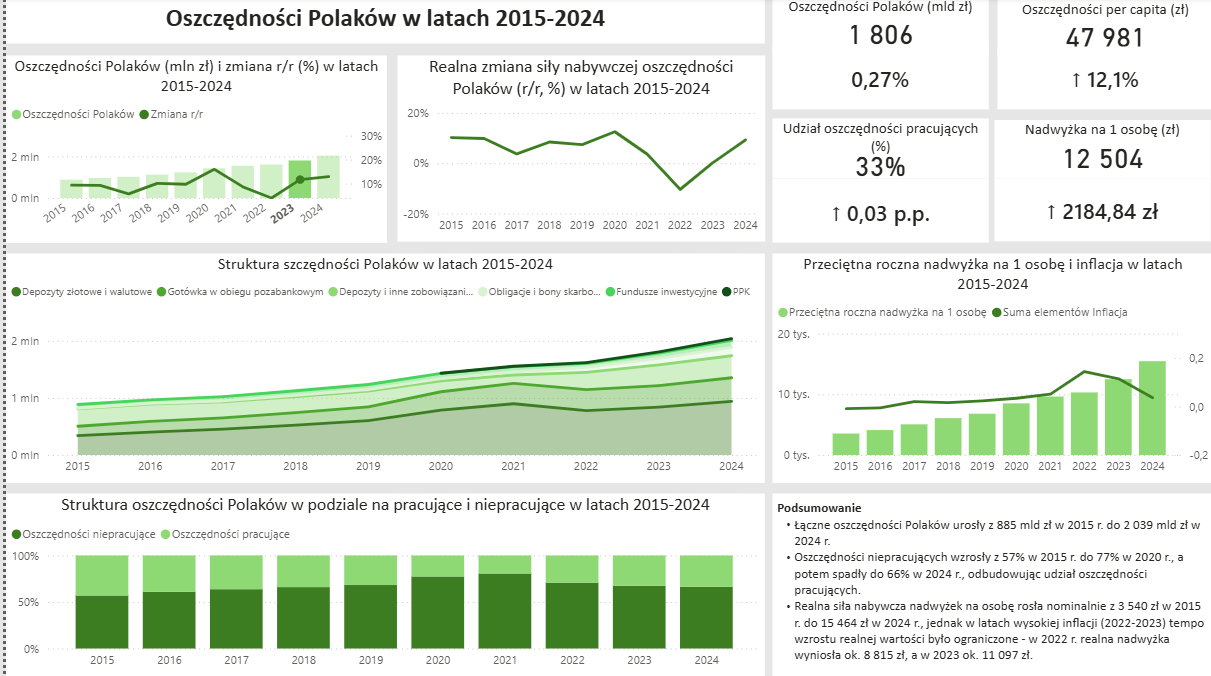

This screenshot's page, from the dashboard's own definition file:
{"tool":"powerbi","page":{"name":"Strona 1","canvas":[1280,720],"ordinal":0},"visuals":[{"type":"stackedAreaChart","title":"Struktura szczędności Polaków w latach 2015-2024","fields":{"Category":["Razem.Rok"],"Y":["Sum(Razem.ROR)","Sum(Razem.Gotówka)","Sum(Razem.Depozyty i inne zobowiązania do 2 lat włącznie)","Sum(Razem.Obligacje i bony skarbowe)","Sum(Razem.Fundusze inwestycyjne)","Sum(Razem.PPK)"]},"box":[0,272,804.8,243.4],"z":0},{"type":"textbox","box":[0,0,804.8,49.3],"z":1000},{"type":"lineClusteredColumnComboChart","title":"Oszczędności Polaków (mln zł) i zmiana r/r (%) w latach 2015-2024","fields":{"Y2":["Sum(Razem.YoY razem)"],"Y":["Sum(Razem.RAZEM)"],"Category":["Razem.Rok"]},"box":[0,62,404,198.8],"z":2000},{"type":"kpi","title":"Oszczędności Polaków (mld zł)","fields":{"Indicator":["Razem.Suma oszczędności (mld zł)"],"TrendLine":["Razem.Rok"]},"box":[812.8,0,229,60.4],"z":3000},{"type":"lineChart","title":"Realna zmiana siły nabywczej oszczędności Polaków (r/r, %) w latach 2015-2024","fields":{"Category":["Razem.Rok"],"Y":["Razem.Yoy realnie razem %"]},"box":[415.1,62,389.7,197.2],"z":4000},{"type":"hundredPercentStackedColumnChart","title":"Struktura oszczędności Polaków w podziale na pracujące i niepracujące w latach 2015-2024","fields":{"Category":["Razem.Rok"],"Y":["Sum(Razem.Oszczędności niepracujące udział)","Sum(Razem.Oszczędności pracujące udział)"]},"box":[0,526.5,804.8,194.1],"z":5000},{"type":"lineClusteredColumnComboChart","title":"Przeciętna roczna nadwyżka na 1 osobę i inflacja w latach 2015-2024","fields":{"Category":["GUS.Rok"],"Y":["Sum(GUS.Przeciętna roczna nadwyżka na 1 osobę)"],"Y2":["Sum(Razem.Inflacja)"]},"box":[812.8,272,467.6,243.4],"z":6000},{"type":"cardVisual","fields":{"Data":["Razem.Yoy realnie razem %"]},"box":[812.8,52.5,229,66.8],"z":7000},{"type":"kpi","title":"Oszczędności per capita (zł)","fields":{"TrendLine":["Razem.Rok"],"Indicator":["Razem.Oszczędności na osobę"]},"box":[1051.4,2.6,229,60.4],"z":8000},{"type":"cardVisual","fields":{"Data":["Razem.Oszczędności na osobę YoY – strzałka"]},"box":[1051.9,52.5,229.3,66.5],"z":9000},{"type":"kpi","title":"Nadwyżka na 1 osobę (zł)","fields":{"TrendLine":["Razem.Rok"],"Indicator":["GUS.Nadwyżka na osobę"]},"box":[1048.2,130.4,229,62],"z":10000},{"type":"cardVisual","fields":{"Data":["GUS.Nadwyżka na osobę YoY Tekst"]},"box":[1048.2,192.5,229,66.8],"z":11000},{"type":"kpi","title":"Udział oszczędności pracujących (%)","fields":{"TrendLine":["Razem.Rok"],"Indicator":["Razem.Udział oszczędności pracujących %"]},"box":[812.1,129.5,229.3,63],"z":12000},{"type":"cardVisual","fields":{"Data":["Razem.YoY oszczędności – strzałka"]},"box":[812.1,192.5,229.3,68.3],"z":13000},{"type":"textbox","box":[812.8,526.5,467.6,194.1],"z":14000}]}

Visuals, with their boxes in screenshot pixels (x1, y1, x2, y2), scaled from the page's 1280x720 canvas onto the 1211x676 screenshot:
"Struktura szczędności Polaków w latach 2015-2024" stackedAreaChart: <region>0, 255, 761, 484</region>
textbox: <region>0, 0, 761, 46</region>
"Oszczędności Polaków (mln zł) i zmiana r/r (%) w latach 2015-2024" lineClusteredColumnComboChart: <region>0, 58, 382, 245</region>
"Oszczędności Polaków (mld zł)" kpi: <region>769, 0, 986, 57</region>
"Realna zmiana siły nabywczej oszczędności Polaków (r/r, %) w latach 2015-2024" lineChart: <region>393, 58, 761, 243</region>
"Struktura oszczędności Polaków w podziale na pracujące i niepracujące w latach 2015-2024" hundredPercentStackedColumnChart: <region>0, 494, 761, 675</region>
"Przeciętna roczna nadwyżka na 1 osobę i inflacja w latach 2015-2024" lineClusteredColumnComboChart: <region>769, 255, 1210, 484</region>
cardVisual - Razem.Yoy realnie razem %: <region>769, 49, 986, 112</region>
"Oszczędności per capita (zł)" kpi: <region>995, 2, 1210, 59</region>
cardVisual - Razem.Oszczędności na osobę YoY – strzałka: <region>995, 49, 1210, 112</region>
"Nadwyżka na 1 osobę (zł)" kpi: <region>992, 122, 1208, 181</region>
cardVisual - GUS.Nadwyżka na osobę YoY Tekst: <region>992, 181, 1208, 243</region>
"Udział oszczędności pracujących (%)" kpi: <region>768, 122, 985, 181</region>
cardVisual - Razem.YoY oszczędności – strzałka: <region>768, 181, 985, 245</region>
textbox: <region>769, 494, 1210, 675</region>
